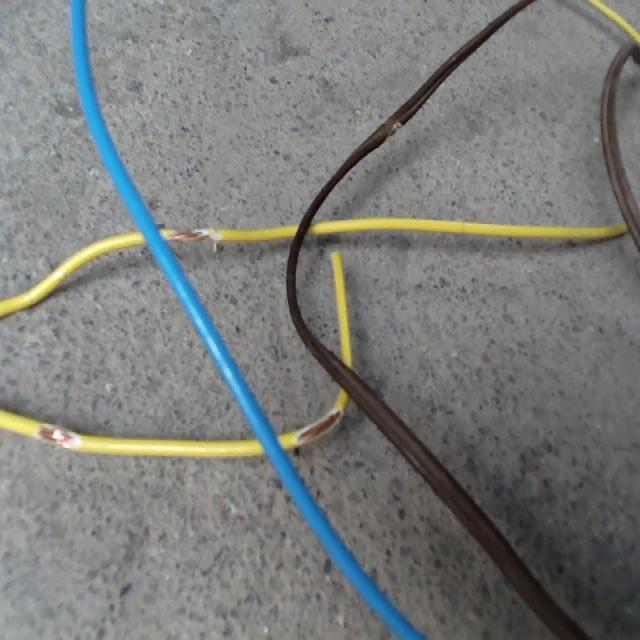-: (295, 408, 343, 444), (34, 422, 79, 449), (162, 225, 220, 243)
